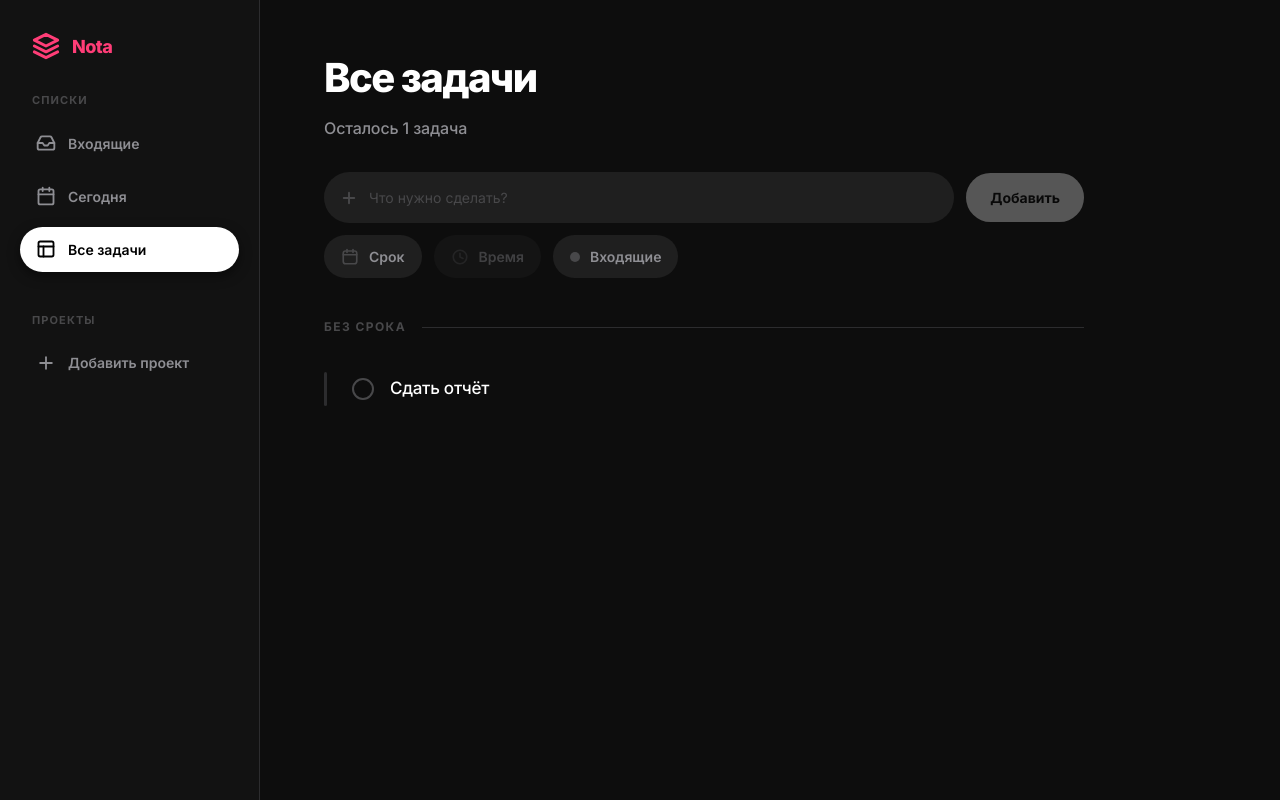
Test: попап ошибки › закрывается по кнопке, не дожидаясь времени
This screenshot has width=1280, height=800.
Click the checkbox named "Сдать отчёт" at (363,389), box [352,378,374,400]
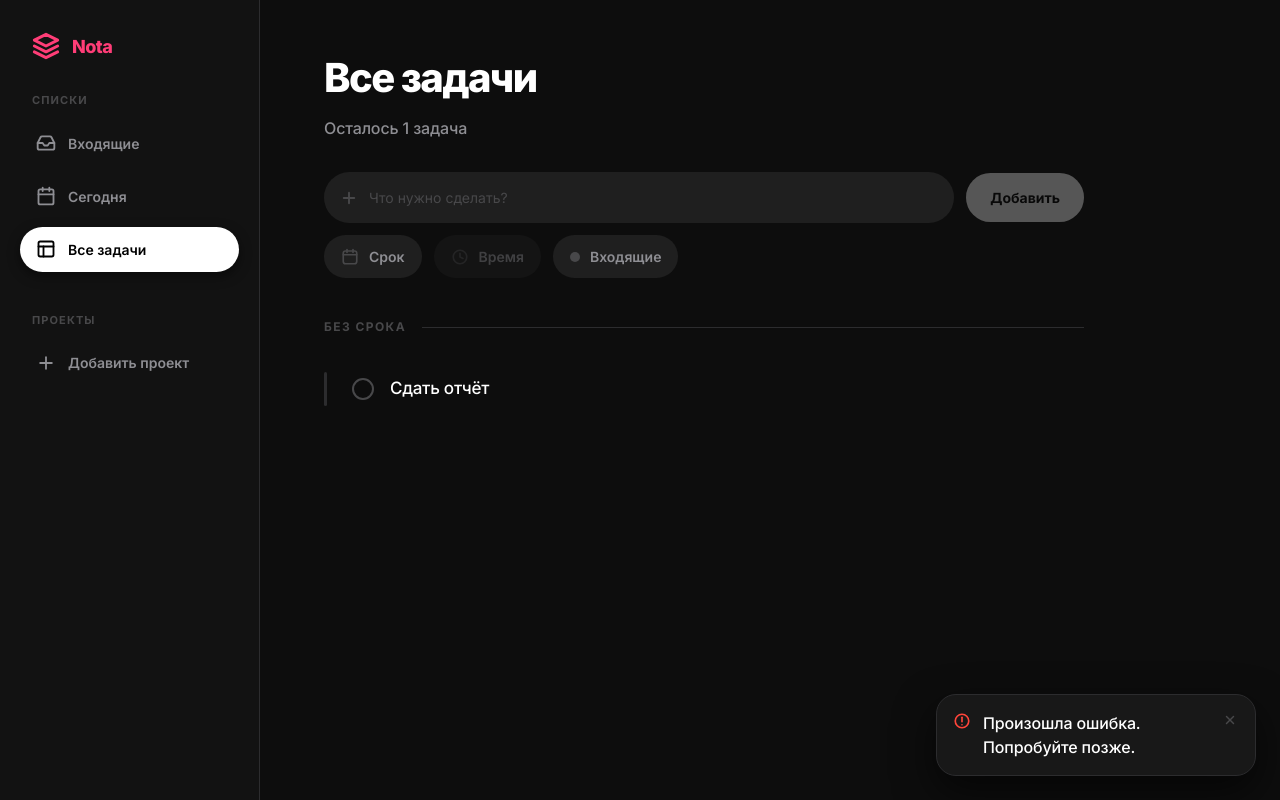
Result: the text "Произошла ошибка. Попробуйте позже." is shown at [983,713,1140,757]
Click the button named "Закрыть сообщение" at (1230,720), box [1221,711,1239,729]
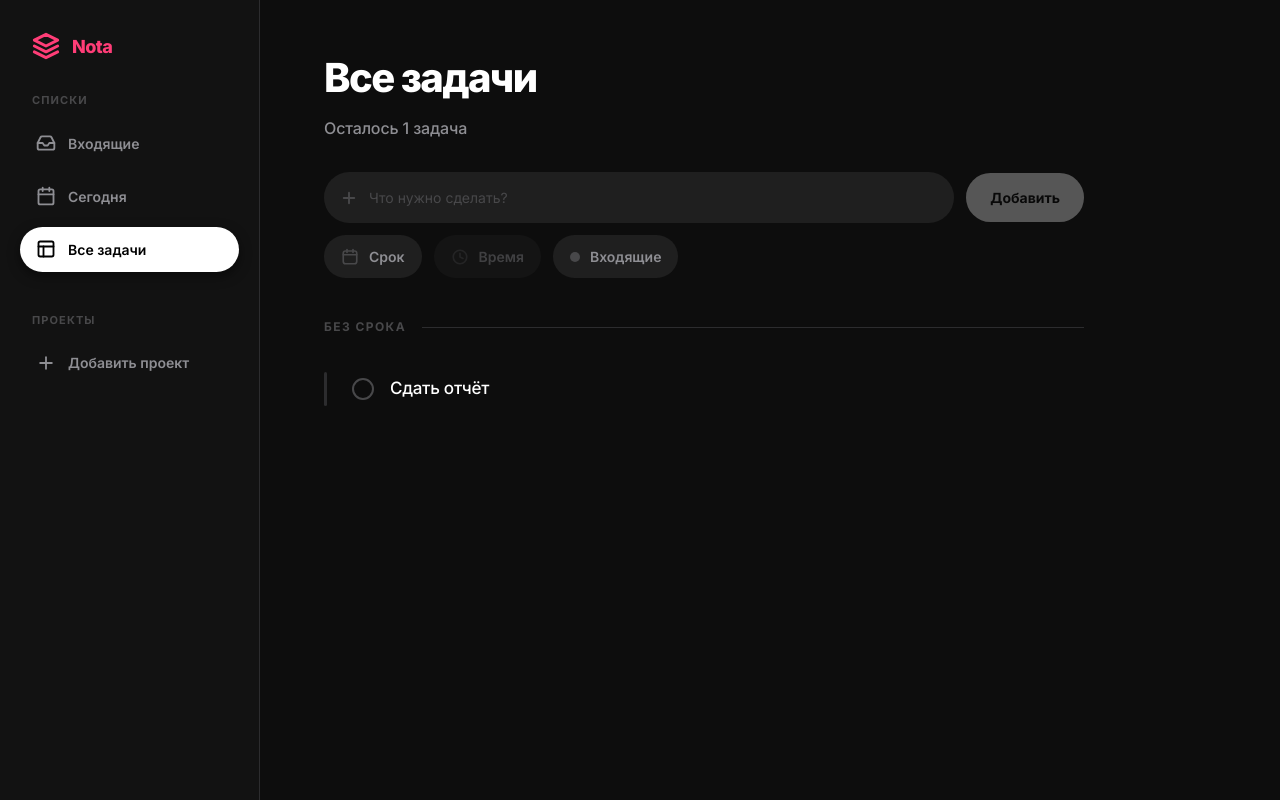
Result: the text "Произошла ошибка. Попробуйте позже." is gone
